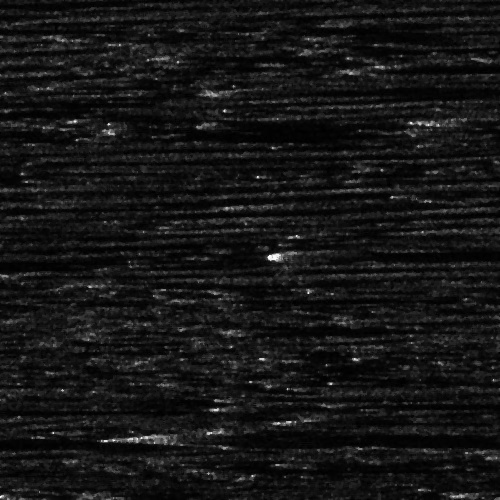object: (290, 394, 383, 411), (288, 240, 341, 263), (409, 486, 500, 495), (213, 322, 286, 331), (252, 416, 345, 423), (104, 280, 145, 285)
shadow: (314, 240, 500, 263), (336, 394, 500, 411), (249, 322, 459, 331), (0, 376, 129, 387), (0, 405, 117, 416), (125, 280, 324, 285), (299, 416, 437, 423), (0, 203, 57, 212), (455, 486, 500, 495)
